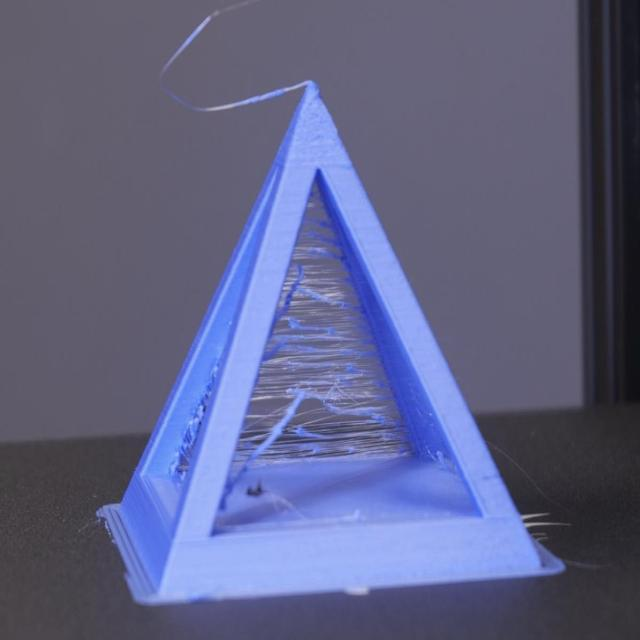stringing: (237, 178, 418, 454), (152, 2, 311, 121), (228, 385, 308, 516), (171, 365, 217, 487)
